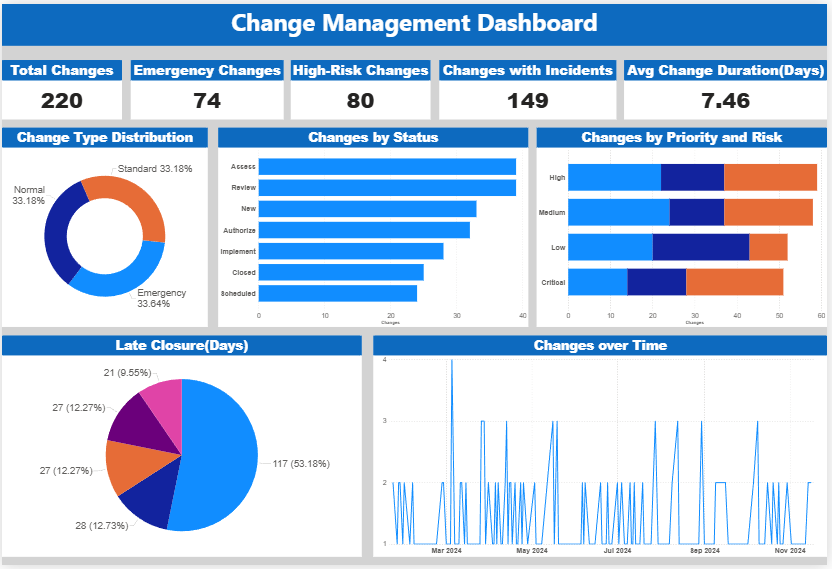

What the dashboard file says about the page in this screenshot:
{"tool":"powerbi","page":{"name":"Change  Management Dashboard","canvas":[2500,1700],"ordinal":3},"visuals":[{"type":"card","title":"Total Changes","fields":{"Values":["CountNonNull(servicenow_changes_220rows.Change_Number)"]},"box":[0,170,363.3,180],"z":0},{"type":"textbox","box":[0,0,2500,126.7],"z":1000},{"type":"card","title":"Emergency Changes","fields":{"Values":["CountNonNull(servicenow_changes_220rows.Change_Number)"]},"box":[390,170,463.3,180],"z":2000},{"type":"card","title":"High-Risk Changes","fields":{"Values":["CountNonNull(servicenow_changes_220rows.Change_Number)"]},"box":[876.7,170,423.3,180],"z":3000},{"type":"card","title":"Avg Change Duration(Days)","fields":{"Values":["servicenow_changes_220rows.Average Change Duration (Days)"]},"box":[1883.3,170,616.7,180],"z":4000},{"type":"card","title":"Changes with Incidents","fields":{"Values":["CountNonNull(servicenow_changes_220rows.Change_Number)"]},"box":[1323.3,170,536.7,180],"z":5000},{"type":"donutChart","title":"Change Type Distribution","fields":{"Y":["CountNonNull(servicenow_changes_220rows.Change_Number)"],"Category":["servicenow_changes_220rows.Change_Type"]},"box":[0,376.7,623.3,603.3],"z":6000},{"type":"barChart","title":"Changes by Status","fields":{"Category":["servicenow_changes_220rows.Status"],"Y":["CountNonNull(servicenow_changes_220rows.Change_Number)"]},"box":[653.3,376.7,940,603.3],"z":7000},{"type":"barChart","title":"Changes by Priority and Risk","fields":{"Y":["CountNonNull(servicenow_changes_220rows.Change_Number)"],"Category":["servicenow_changes_220rows.Priority"],"Series":["servicenow_changes_220rows.Risk"]},"box":[1620,376.7,880,603.3],"z":8000},{"type":"pieChart","title":"Late Closure(Days)","fields":{"Category":["servicenow_changes_220rows.Late Closure"],"Y":["CountNonNull(servicenow_changes_220rows.Change_Number)"]},"box":[0,1006.7,1090,670],"z":9000},{"type":"lineChart","title":"Changes over Time","fields":{"Y":["CountNonNull(servicenow_changes_220rows.Change_Number)"],"Category":["servicenow_changes_220rows.Opened_At.Variation.Date Hierarchy.Year","servicenow_changes_220rows.Opened_At.Variation.Date Hierarchy.Month","servicenow_changes_220rows.Opened_At.Variation.Date Hierarchy.Day"]},"box":[1123.3,1006.7,1376.7,670],"z":10000}]}

Visuals, with their boxes in screenshot pixels (x1, y1, x2, y2), scaled from the page's 2500x1700 canvas onto the 832x569 screenshot:
"Total Changes" card: bbox(0, 57, 121, 117)
textbox: bbox(0, 0, 831, 42)
"Emergency Changes" card: bbox(130, 57, 284, 117)
"High-Risk Changes" card: bbox(292, 57, 433, 117)
"Avg Change Duration(Days)" card: bbox(627, 57, 831, 117)
"Changes with Incidents" card: bbox(440, 57, 619, 117)
"Change Type Distribution" donutChart: bbox(0, 126, 207, 328)
"Changes by Status" barChart: bbox(217, 126, 530, 328)
"Changes by Priority and Risk" barChart: bbox(539, 126, 831, 328)
"Late Closure(Days)" pieChart: bbox(0, 337, 363, 561)
"Changes over Time" lineChart: bbox(374, 337, 831, 561)
